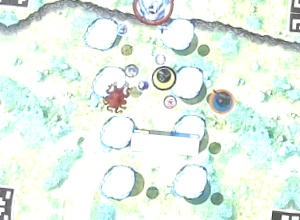giant_red_octopus: (102, 85, 127, 110)
light_blue_orange: (209, 88, 234, 113)
lime_green_violet: (150, 66, 175, 91)
